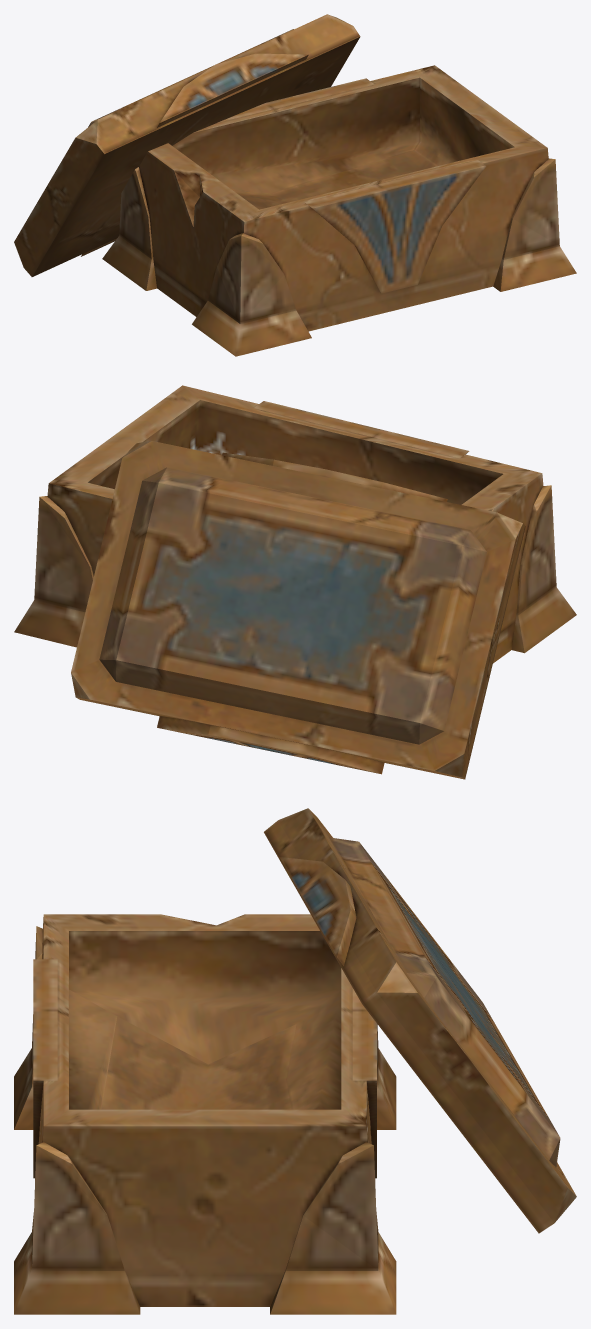
The model's file is shakian_object_box_02.FBX.
3 renders of one model, top to bottom at view 1: azimuth 30°, elevation 25°; view 2: azimuth 150°, elevation 25°; view 3: azimuth 270°, elevation 25°, orthographic. The views are drawn at different scales.
Parts seen in each view (by area): view 1: shakian_object_box_02; view 2: shakian_object_box_02; view 3: shakian_object_box_02.
Boxes of the visible parts, <box> form: shakian_object_box_02: <box>14,14,576,356</box>; shakian_object_box_02: <box>14,385,576,779</box>; shakian_object_box_02: <box>14,808,576,1314</box>.
Bounding box in the file's own units: 4.07 × 2 × 3.42.
